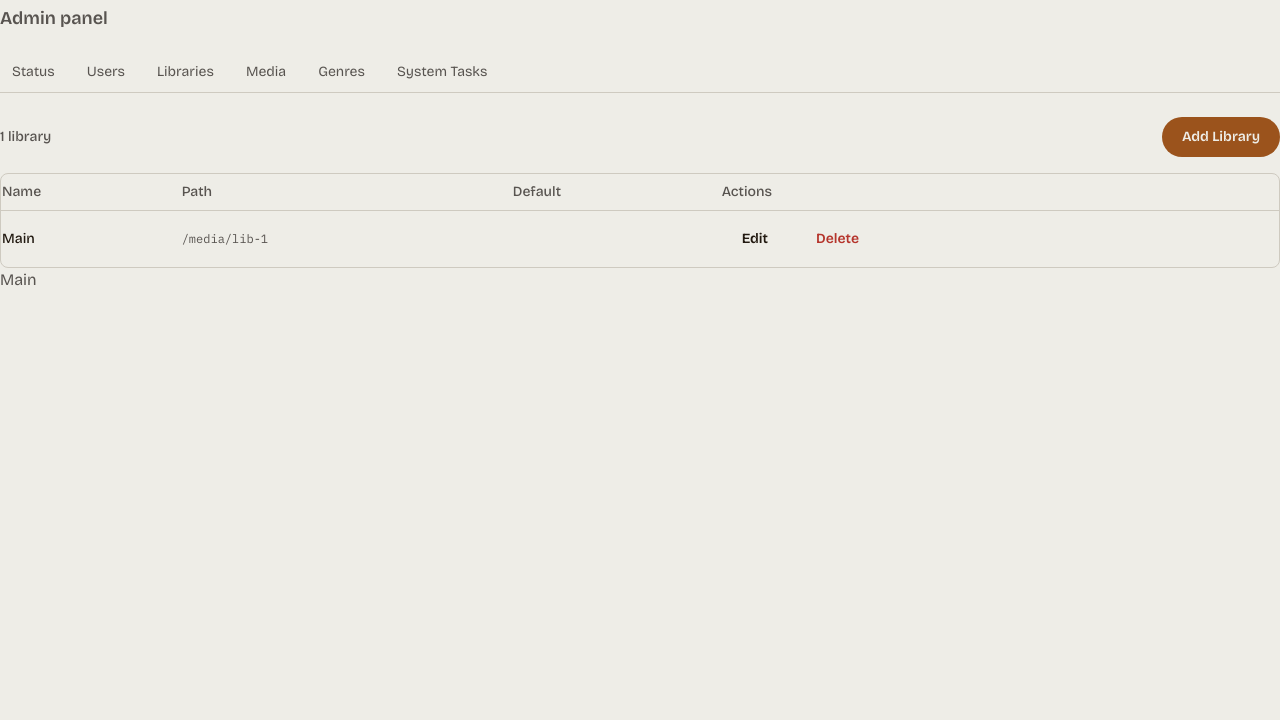
Test: AdminLibraries (Phase 10e: CRUD refreshes the selector) › selector reflects a created library after invalidation, without a reload
Check: the text with test id "selector-libraries" reads "Main", box [0,270,37,289]
Click the button "Add Library": coordinates (1221, 137) [1162,117,1279,157]
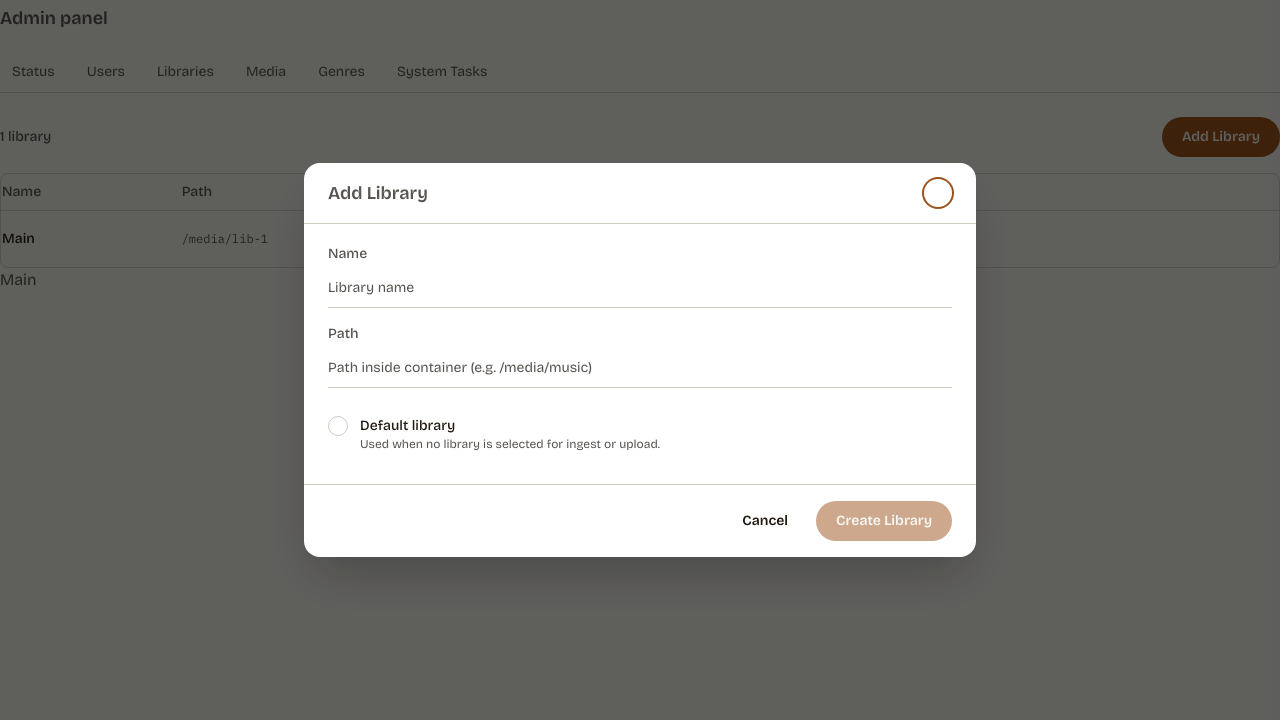
In the field labelled "Name": coordinates (640, 288) [328,268,952,308], type "New"
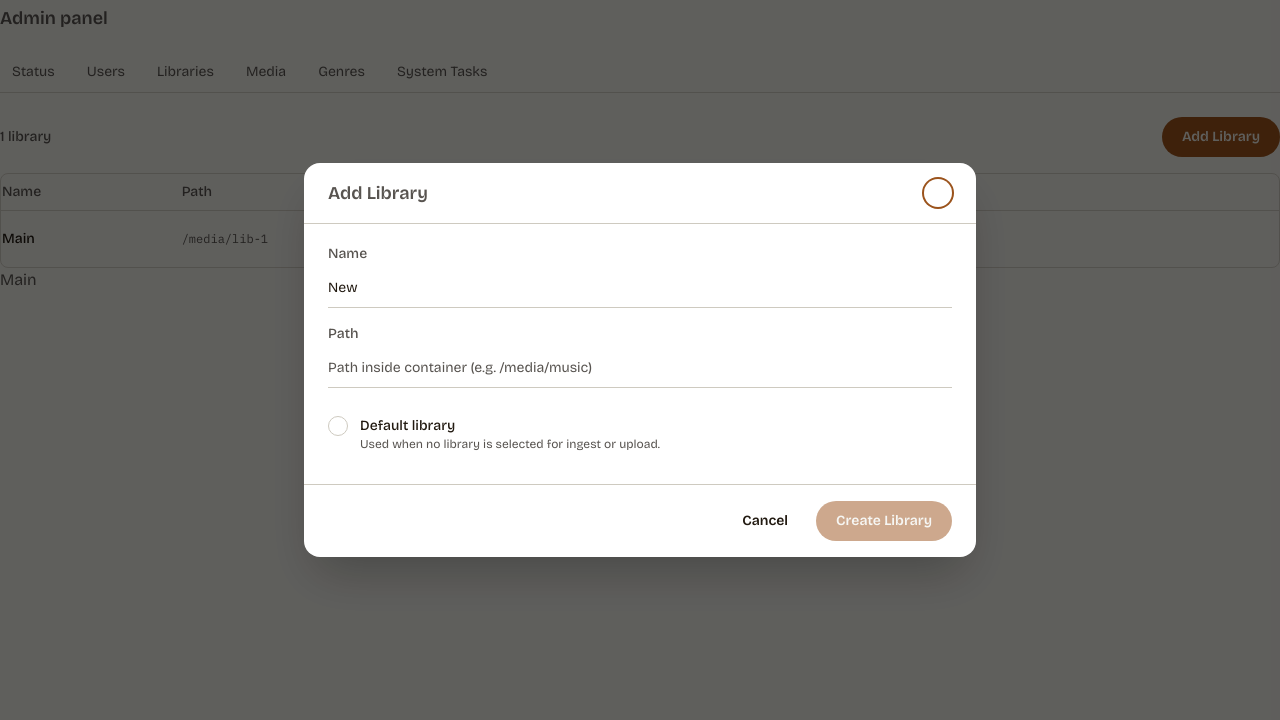
In the field labelled "Path": coordinates (640, 368) [328,348,952,388], type "/media/new"
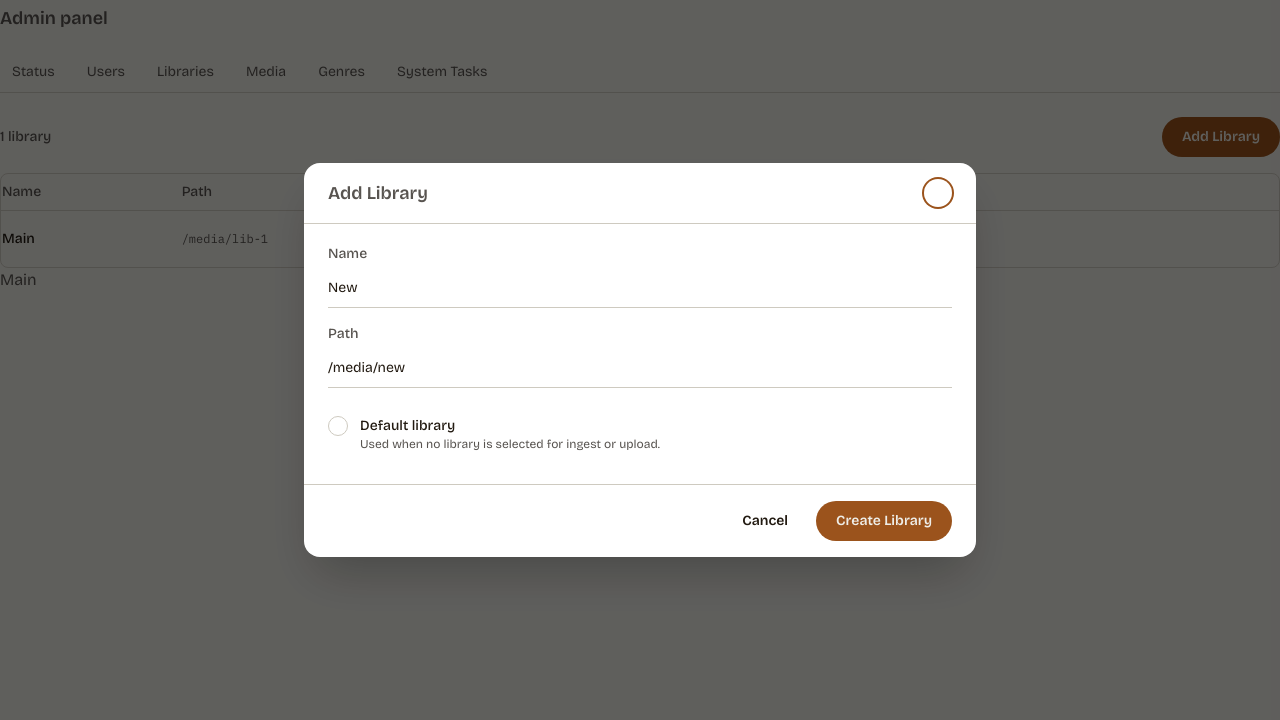
Click the button "Create Library": coordinates (884, 521) [816,501,952,541]
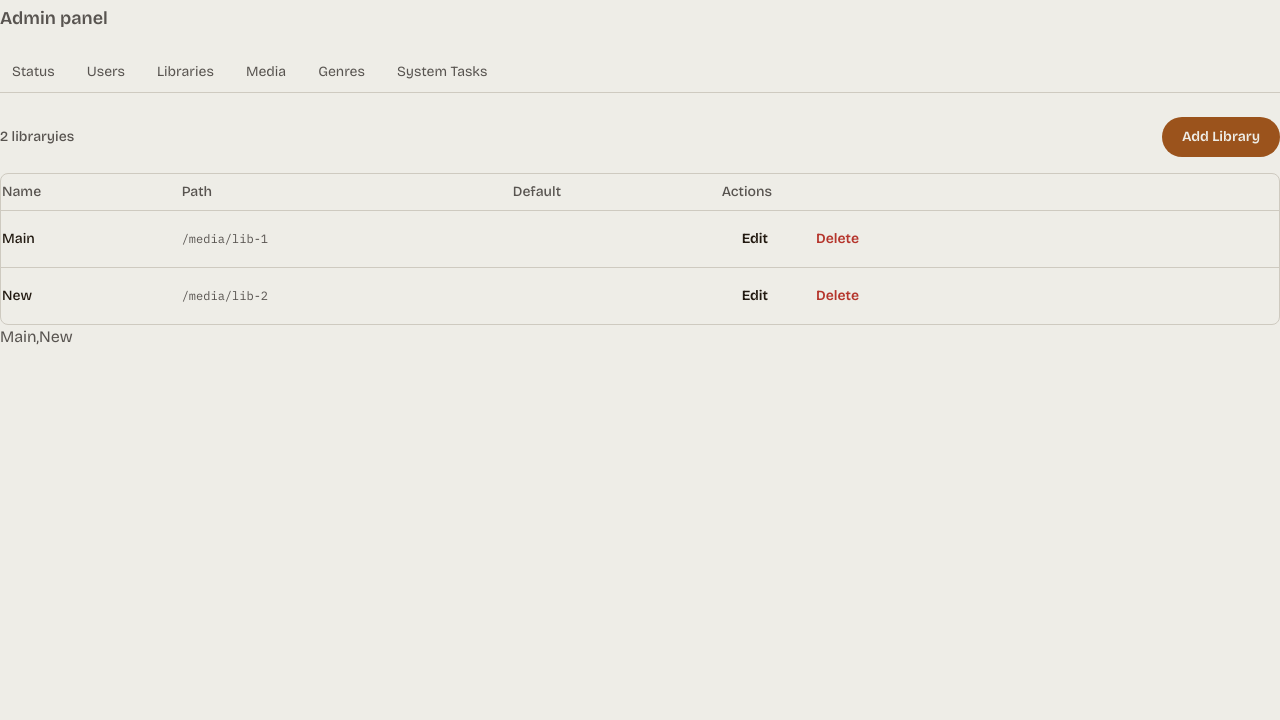
Check: the text with test id "selector-libraries" reads "Main,New", box [0,327,73,346]
